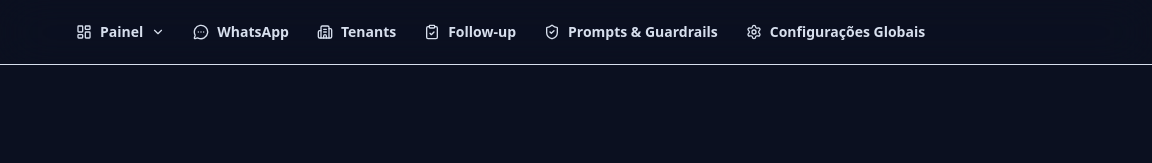
Scenario: AdminNavigation — Painel menu (EDI-71) › closes the submenu after selecting an item
Click the button "Painel" at (121, 32), box [64,12,177,52]
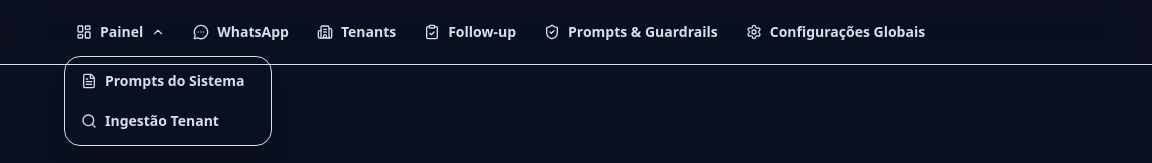
Click the menu item "Prompts do Sistema" at (163, 80), box [81,71,244,90]
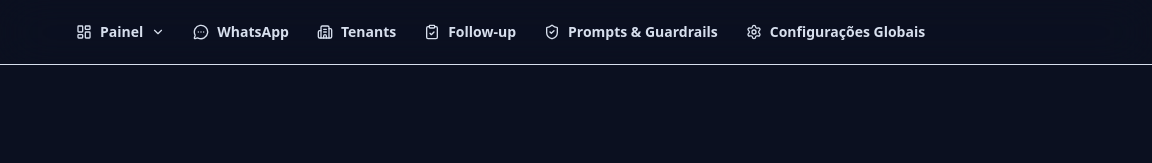
Now the menu item "Prompts do Sistema" is gone
